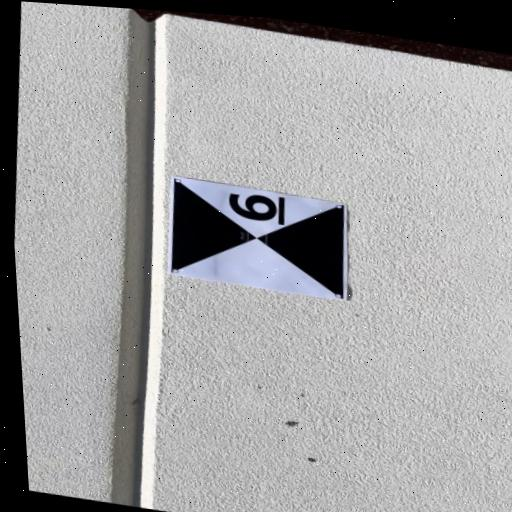target6: (170, 175, 352, 302)
